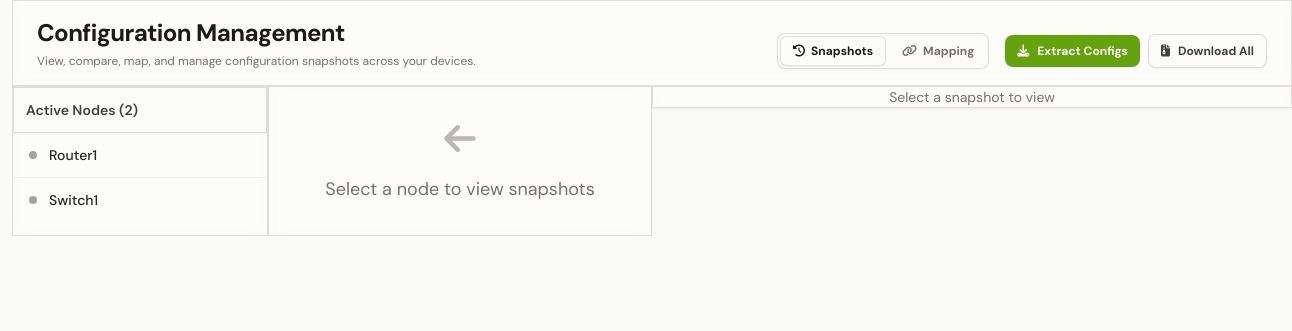
Test case: ConfigsView › Empty states › shows 'No snapshots for this node' when node has no snapshots
Check: the text "Router1" is shown, box [49,146,97,164]
Click the button "Router1".
click(140, 155)  # box [13,133,267,177]
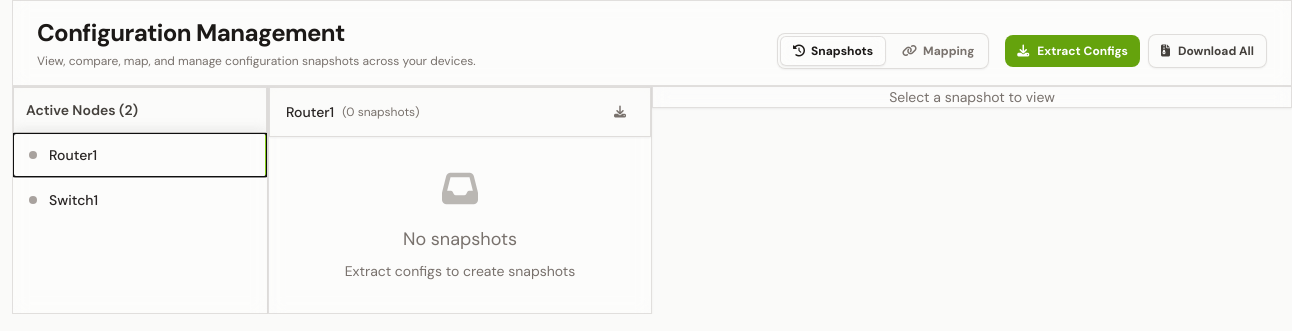
Check: the text "No snapshots" is shown, box [403,227,517,251]
Check: the text "Extract configs to create snapshots" is shown, box [345,261,575,281]
